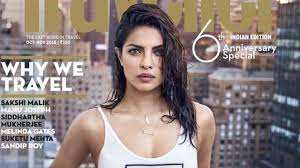indian_female: (103, 17, 181, 100)
